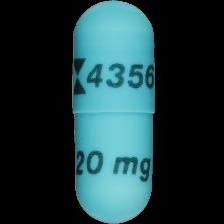0179-0060: (0, 0, 224, 224)
